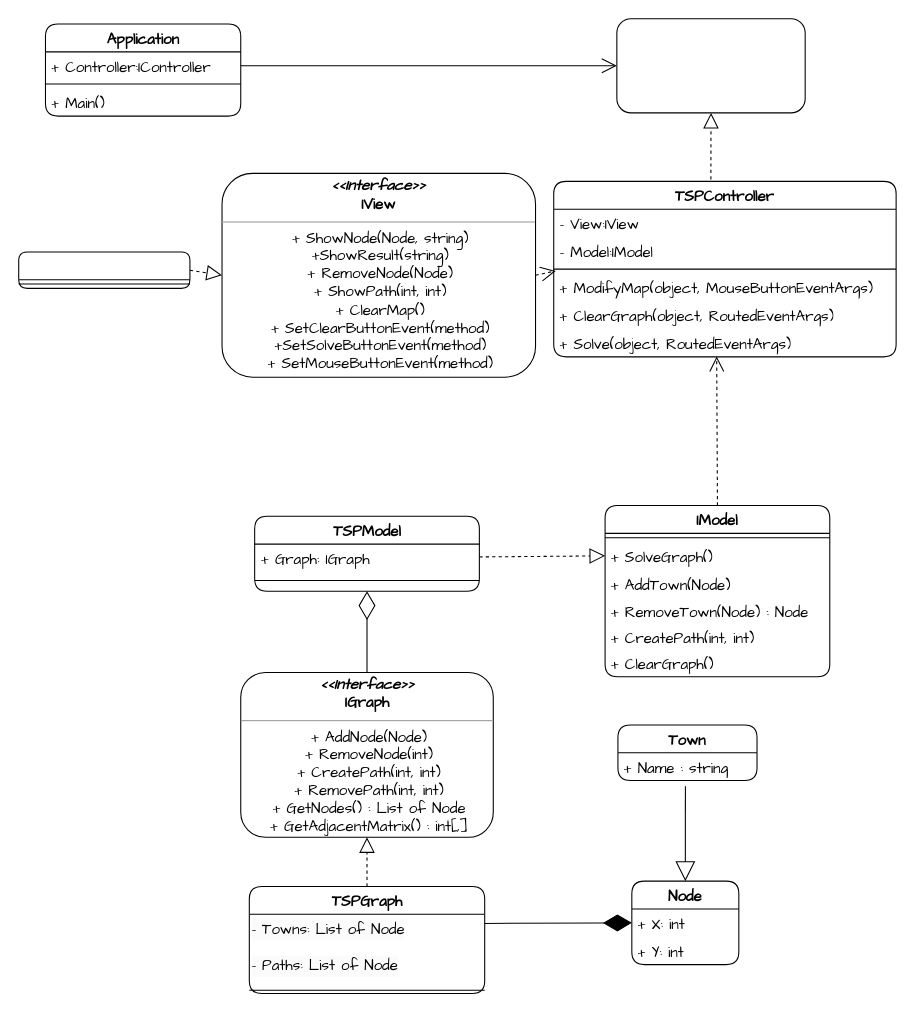
The diagram is 915 pixels wide and 1012 high, and some of its shapes have lost their labels. Each missing label, with the centre of its shape:
<<Interface>> IController + SetView(IView) + SetModel(IModel): [710,65]
TSPView: [104,269]
